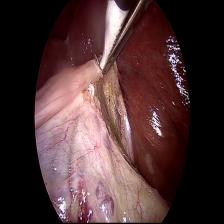Grasper: (101, 2, 155, 79)
Hook: (88, 0, 130, 74)
